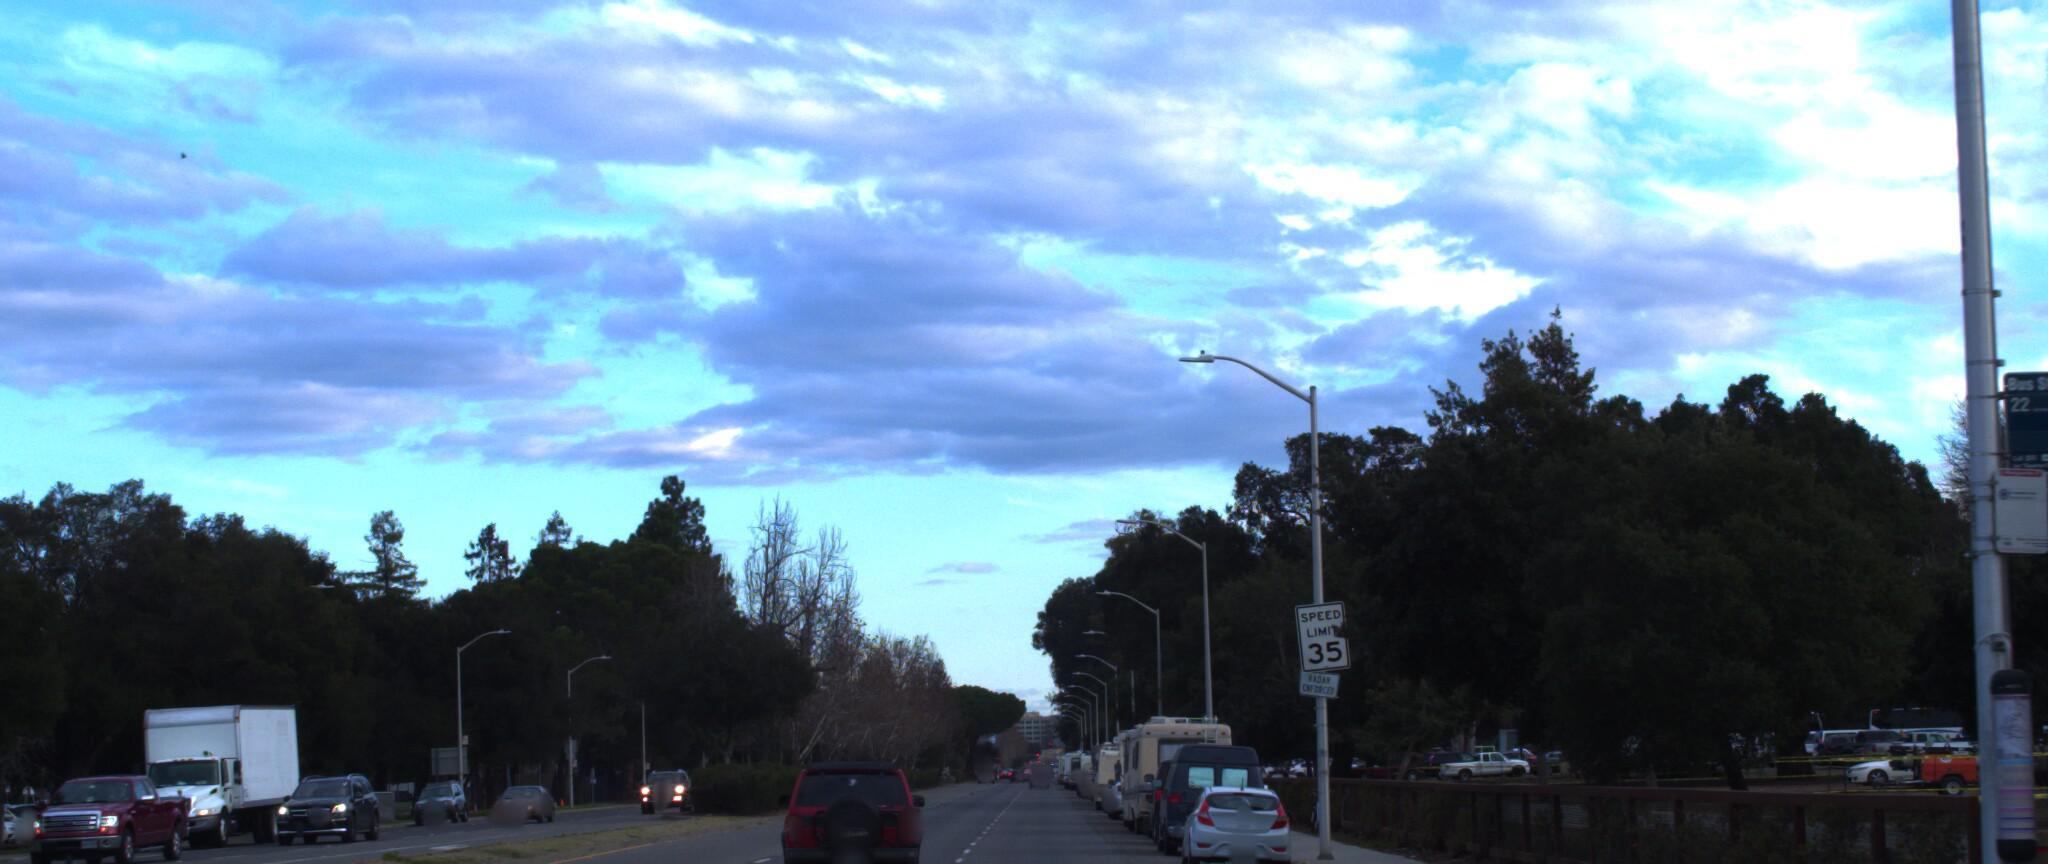car: (768, 735, 927, 864), (29, 760, 204, 852), (1142, 719, 1267, 841), (1168, 761, 1294, 857), (274, 764, 387, 837)
other_vehicle: (1108, 693, 1242, 822)
truck: (118, 684, 317, 843)
